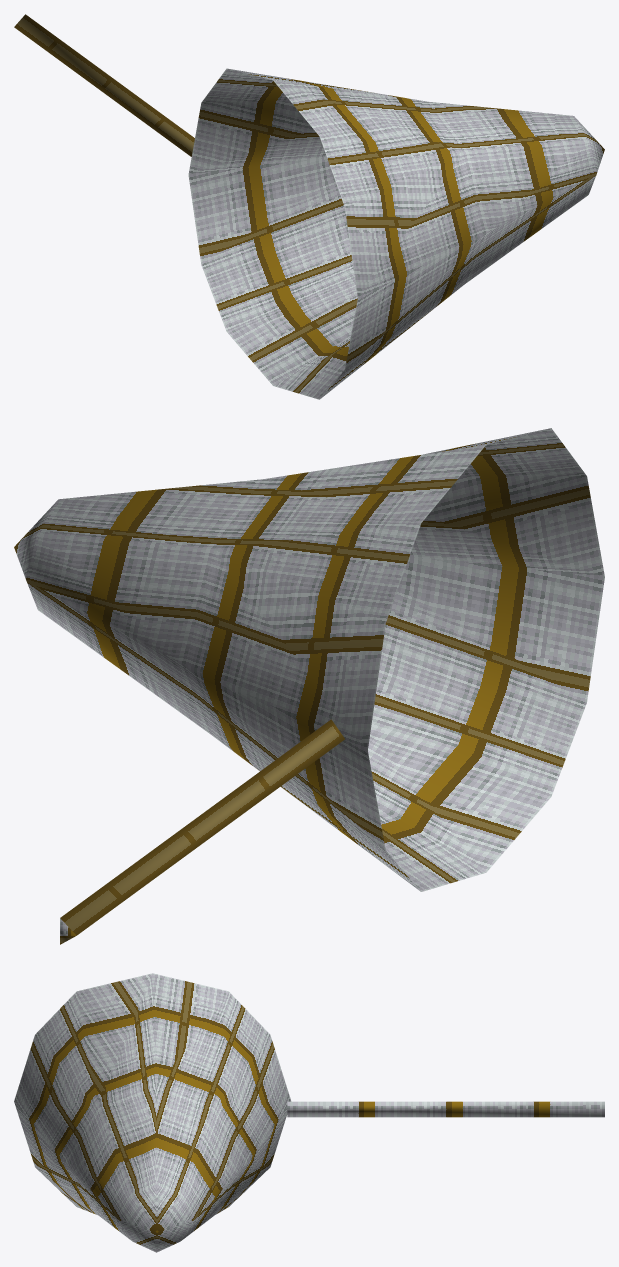
File: 2702equip03_e.gltf
3 views of the same model, one above another, from view 1: azimuth 30°, elevation 25°; view 2: azimuth 150°, elevation 25°; view 3: azimuth 270°, elevation 25° (orthographic). The views are drawn at different scales.
Visible parts, largest first — view 1: 2702equip03_e; view 2: 2702equip03_e; view 3: 2702equip03_e.
Part boxes in pixels (x1,y1,x2,y2): 2702equip03_e: [14, 14, 604, 399]; 2702equip03_e: [14, 428, 604, 944]; 2702equip03_e: [14, 973, 604, 1252].
Size of the model in its own units: 0.8721 by 0.761 by 1.63.
1 material, 1 textured.
